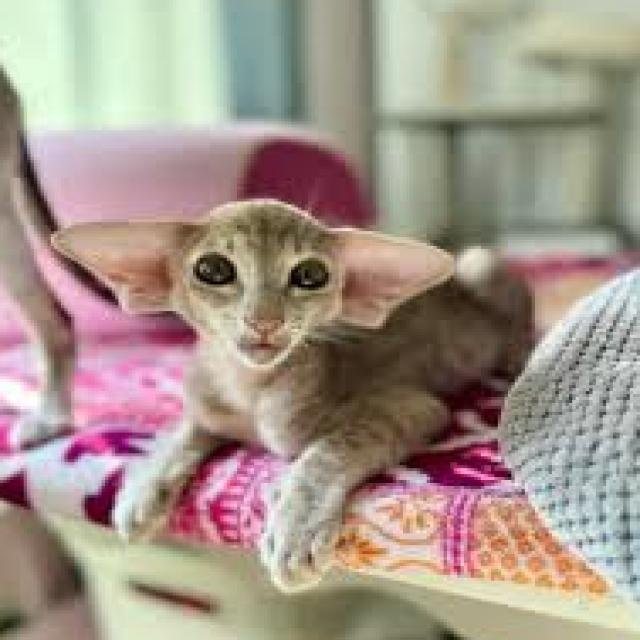Oriental: (49, 195, 542, 598)
